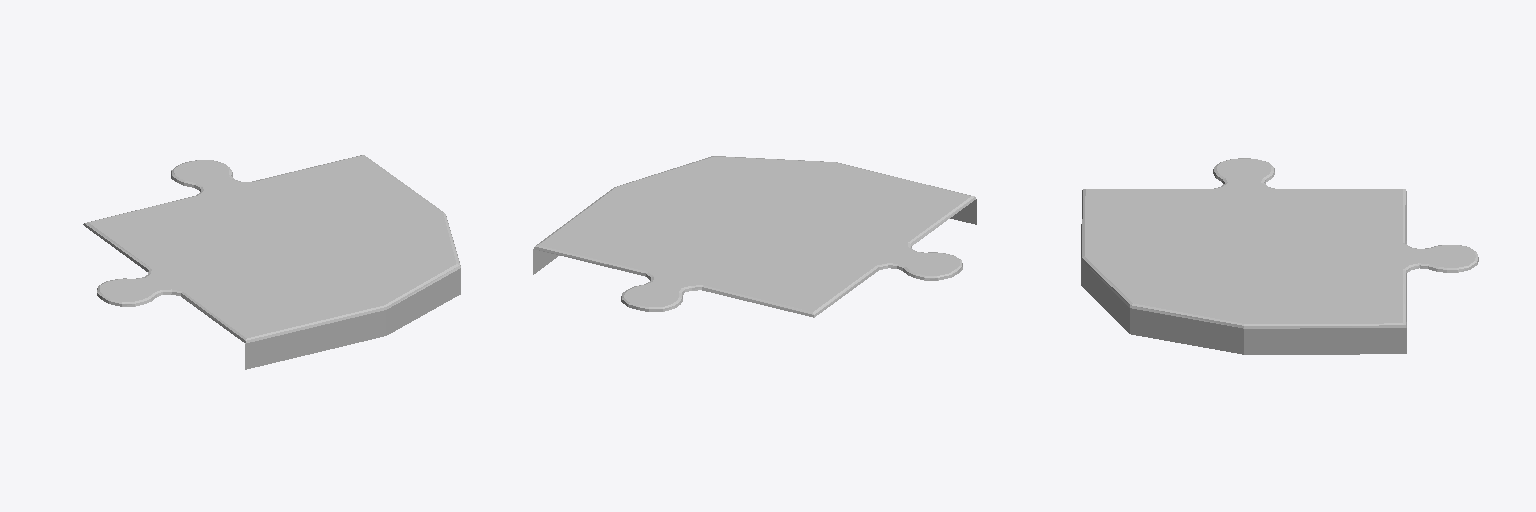
Rendered from Corner Bottom Right Knobs.obj.
The picture shows the model from 3 angles: view 1: azimuth 30°, elevation 25°; view 2: azimuth 150°, elevation 25°; view 3: azimuth 270°, elevation 25°; orthographic projection.
Visible parts, largest first — view 1: PuzzleCornerBottomRightKnobs; view 2: PuzzleCornerBottomRightKnobs; view 3: PuzzleCornerBottomRightKnobs.
Part boxes in pixels (x1,y1,x2,y2): PuzzleCornerBottomRightKnobs: (83,155,460,369); PuzzleCornerBottomRightKnobs: (533,156,976,317); PuzzleCornerBottomRightKnobs: (1081,158,1478,354).
Bounding box in the file's own units: 725 × 59.05 × 725.